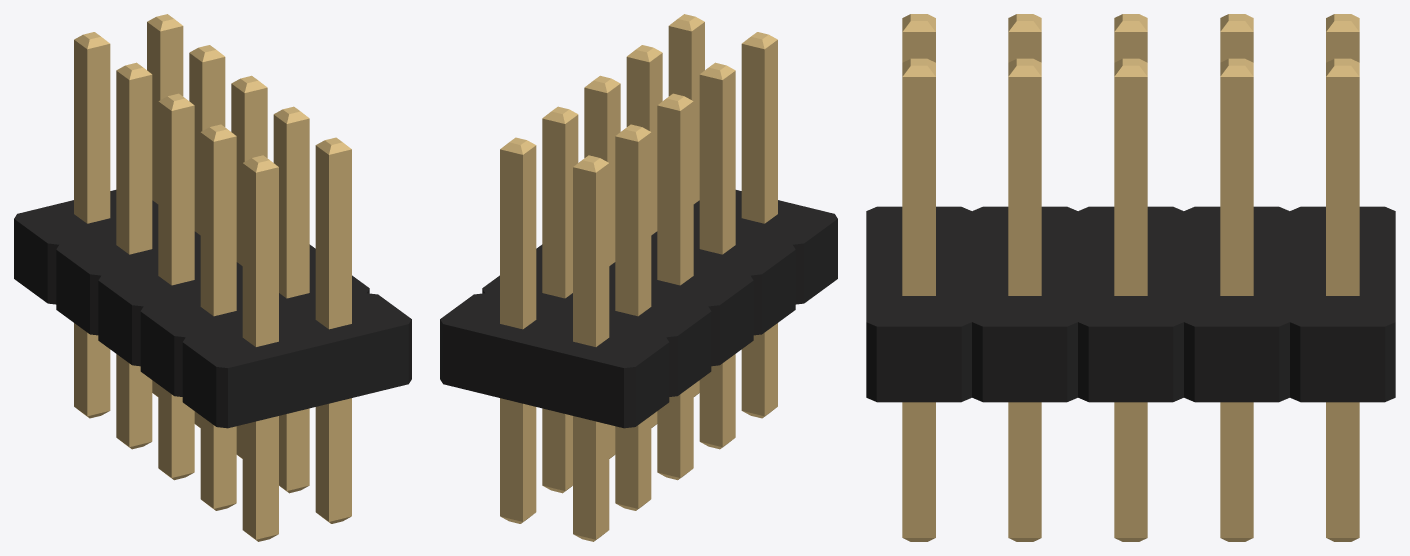
Rendered from Connector_PinHeader_1.27mm__PinHeader_2x05_P1.27mm_Vertical.glb.
The picture shows the model from 3 angles, left to right: view 1: azimuth 30°, elevation 25°; view 2: azimuth 150°, elevation 25°; view 3: azimuth 270°, elevation 25°; orthographic projection. The views are drawn at different scales.
Visible parts, largest first — view 1: PinHeader_2x05_P127mm_Vertical; view 2: PinHeader_2x05_P127mm_Vertical; view 3: PinHeader_2x05_P127mm_Vertical.
Part boxes in pixels (x1=…): PinHeader_2x05_P127mm_Vertical: x1=14, y1=14, x2=411, y2=541; PinHeader_2x05_P127mm_Vertical: x1=440, y1=14, x2=837, y2=541; PinHeader_2x05_P127mm_Vertical: x1=866, y1=14, x2=1395, y2=541.
Size of the model in its own units: 0.0034 by 0.0063 by 0.00635.
